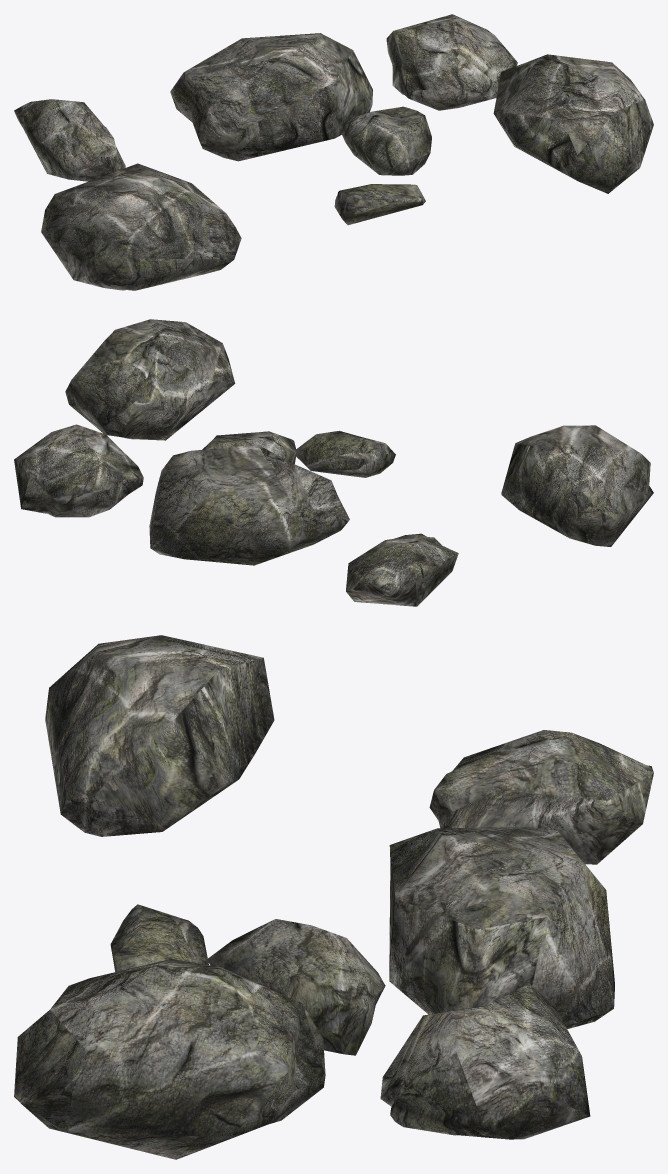
Rendered from small_rocks.FBX.
The picture shows the model from 3 angles, top to bottom: view 1: azimuth 30°, elevation 25°; view 2: azimuth 150°, elevation 25°; view 3: azimuth 270°, elevation 25°; orthographic projection. The views are drawn at different scales.
Parts seen in each view (by area): view 1: stone13, stone14, stone04, stone02, stone19, stone07, stone08; view 2: stone13, stone04, stone14, stone02, stone19, stone08, stone07; view 3: stone04, stone13, stone14, stone02, stone19, stone07, stone08.
Boxes of the visible parts, box(x1,y1,x2,y2) form: stone13: box(170, 33, 372, 161); stone14: box(41, 163, 241, 290); stone04: box(493, 54, 653, 193); stone02: box(386, 14, 517, 110); stone19: box(14, 99, 125, 181); stone07: box(341, 106, 431, 175); stone08: box(334, 184, 425, 225); stone13: box(149, 445, 349, 565); stone04: box(65, 319, 235, 440); stone14: box(501, 425, 653, 546); stone02: box(14, 424, 143, 517); stone19: box(346, 533, 458, 606); stone08: box(296, 430, 395, 477); stone07: box(202, 431, 296, 464); stone04: box(14, 959, 325, 1159); stone13: box(389, 827, 614, 1028); stone14: box(45, 635, 274, 836); stone02: box(380, 983, 590, 1139); stone19: box(429, 730, 653, 864); stone07: box(206, 919, 385, 1055); stone08: box(110, 904, 208, 971).
Size of the model in its own units: 154 by 28.61 by 95.62.
